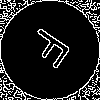F: (25, 25, 80, 76)
